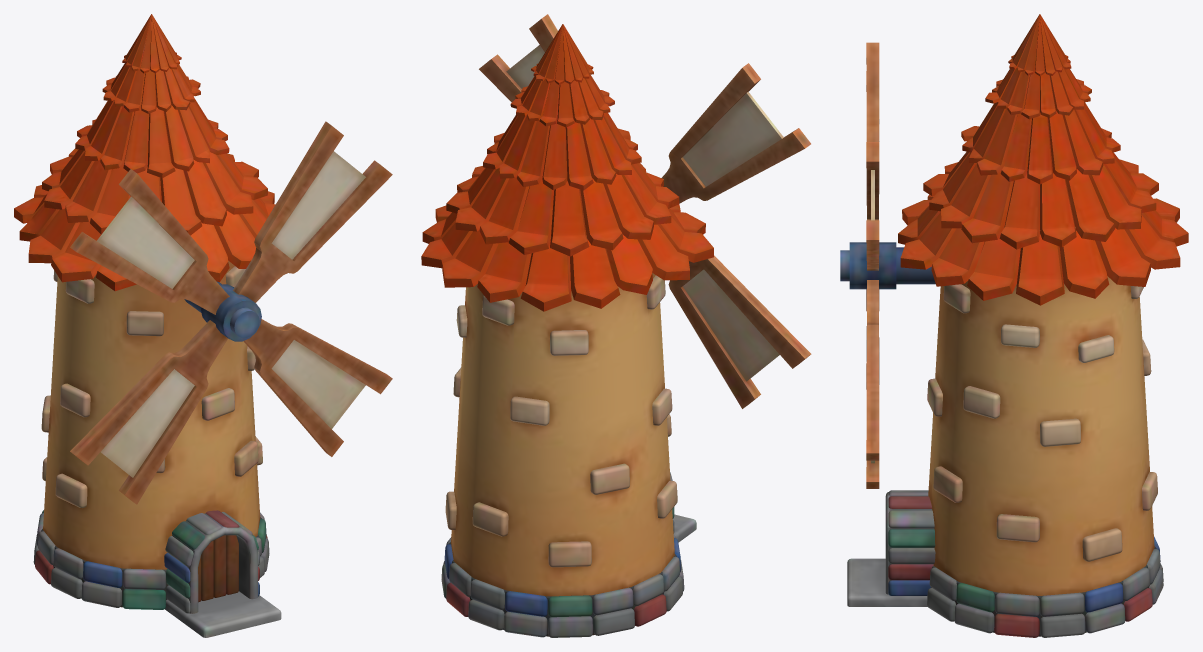
File: furn_windmill.glb
The picture shows the model from 3 angles, left to right: view 1: azimuth 30°, elevation 25°; view 2: azimuth 150°, elevation 25°; view 3: azimuth 270°, elevation 25°; orthographic projection. The views are drawn at different scales.
Parts seen in each view (by area): view 1: Wind, Base, Roof.002, Stones, Cube.020, Base_Stones_2, Cube.008, Base_Stones_1, Door, DoorFrame; view 2: Base, Roof.002, Wind, Stones, Base_Stones_2, Base_Stones_1; view 3: Base, Roof.002, Wind, Stones, Base_Stones_1, Base_Stones_2, Cube.020, Cube.008, DoorFrame.
Boxes of the visible parts, x1,y1,x2,y2 form: Wind: [70, 121, 392, 504]; Base: [43, 261, 260, 569]; Roof.002: [14, 14, 275, 291]; Stones: [41, 266, 262, 507]; Cube.020: [164, 510, 259, 613]; Base_Stones_2: [36, 510, 266, 589]; Cube.008: [164, 591, 281, 637]; Base_Stones_1: [33, 534, 269, 609]; Door: [198, 535, 238, 602]; DoorFrame: [172, 513, 257, 613]; Base: [451, 235, 674, 596]; Roof.002: [421, 24, 713, 311]; Wind: [479, 14, 811, 408]; Stones: [445, 275, 677, 567]; Base_Stones_2: [444, 535, 681, 617]; Base_Stones_1: [441, 560, 684, 637]; Base: [928, 227, 1154, 595]; Roof.002: [898, 14, 1188, 305]; Wind: [840, 42, 935, 488]; Stones: [927, 284, 1157, 561]; Base_Stones_1: [927, 563, 1163, 637]; Base_Stones_2: [929, 536, 1160, 616]; Cube.020: [888, 490, 935, 595]; Cube.008: [847, 558, 927, 606]; DoorFrame: [885, 492, 934, 594].
Bounding box in the file's own units: 9.81 × 16.2 × 8.93.
Materials: 1 (1 with a texture image).
